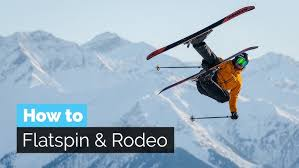skis: (143, 4, 260, 98)
